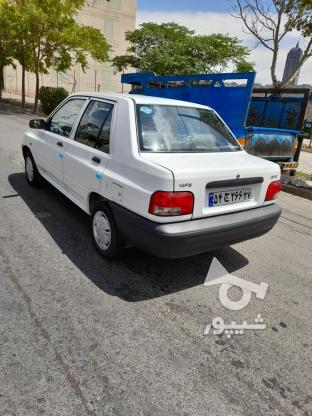car: (208, 187, 252, 208)
